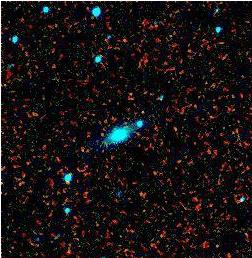star: (56, 233, 86, 258)
